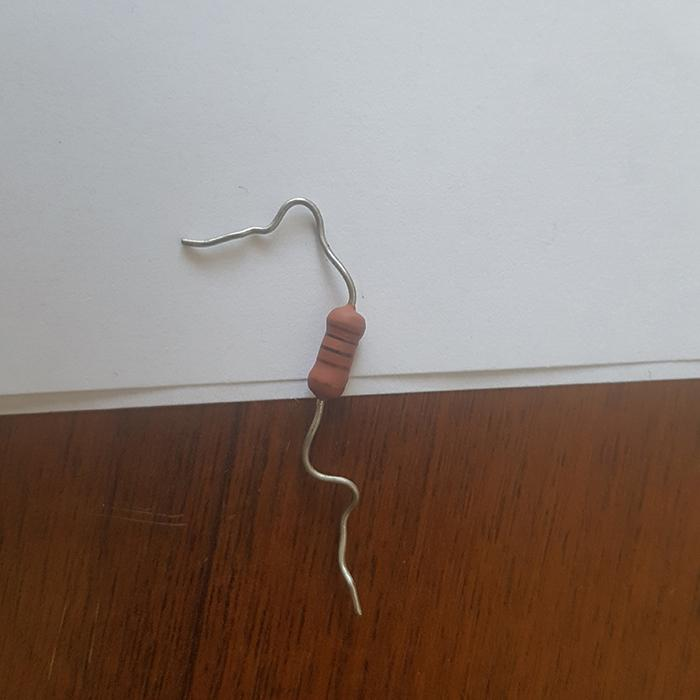resistor: (308, 301, 369, 399)
